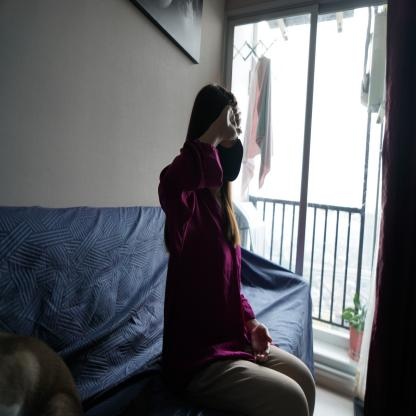Sick: (208, 98, 251, 143)
